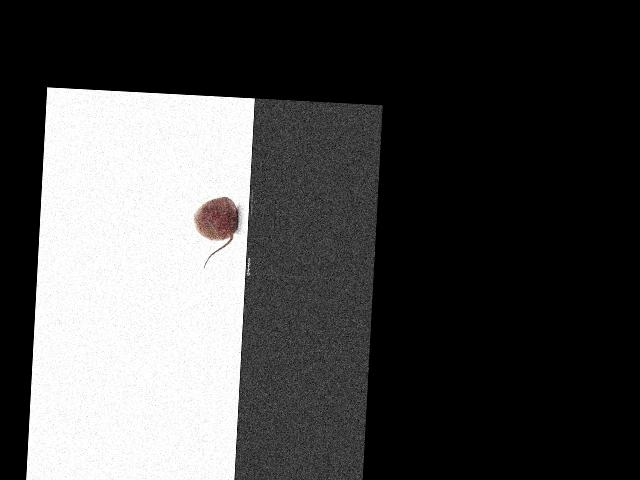beet: (191, 195, 239, 270)
